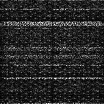lte: (1, 21, 104, 27), (1, 75, 104, 80), (1, 62, 104, 67), (1, 47, 104, 52)
